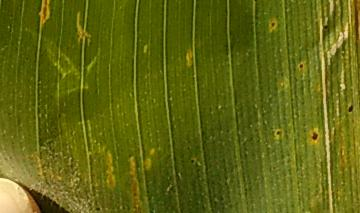tarspot: (309, 128, 320, 144), (345, 102, 356, 116), (267, 18, 277, 31), (297, 60, 307, 72), (322, 21, 331, 33), (93, 203, 103, 213), (273, 128, 283, 137)
